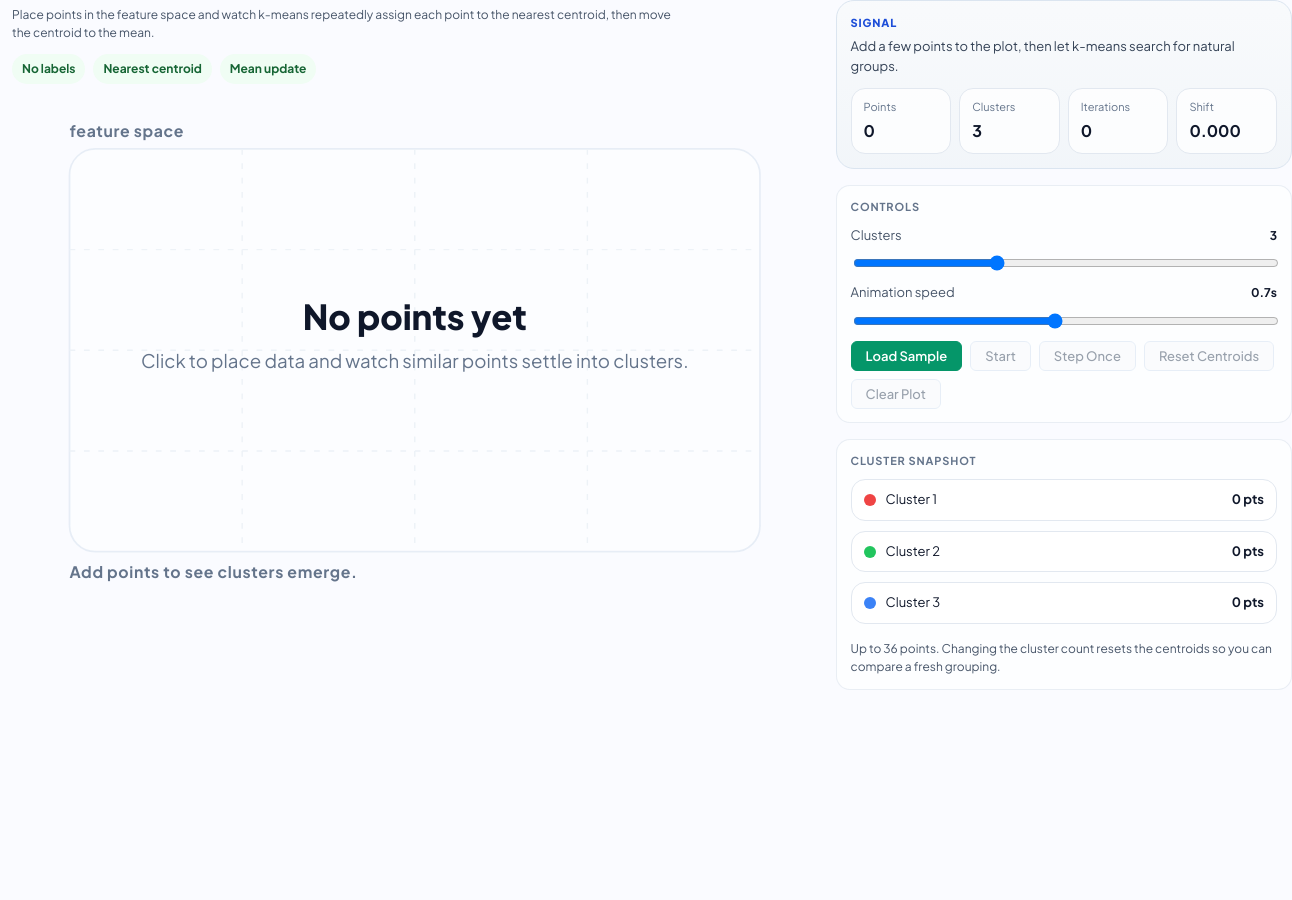
Test: ClusteringLab › increments the Iterations stat after Step Once
Click the button "Load Sample" at (906,356), box left=850, top=341, right=962, bottom=371
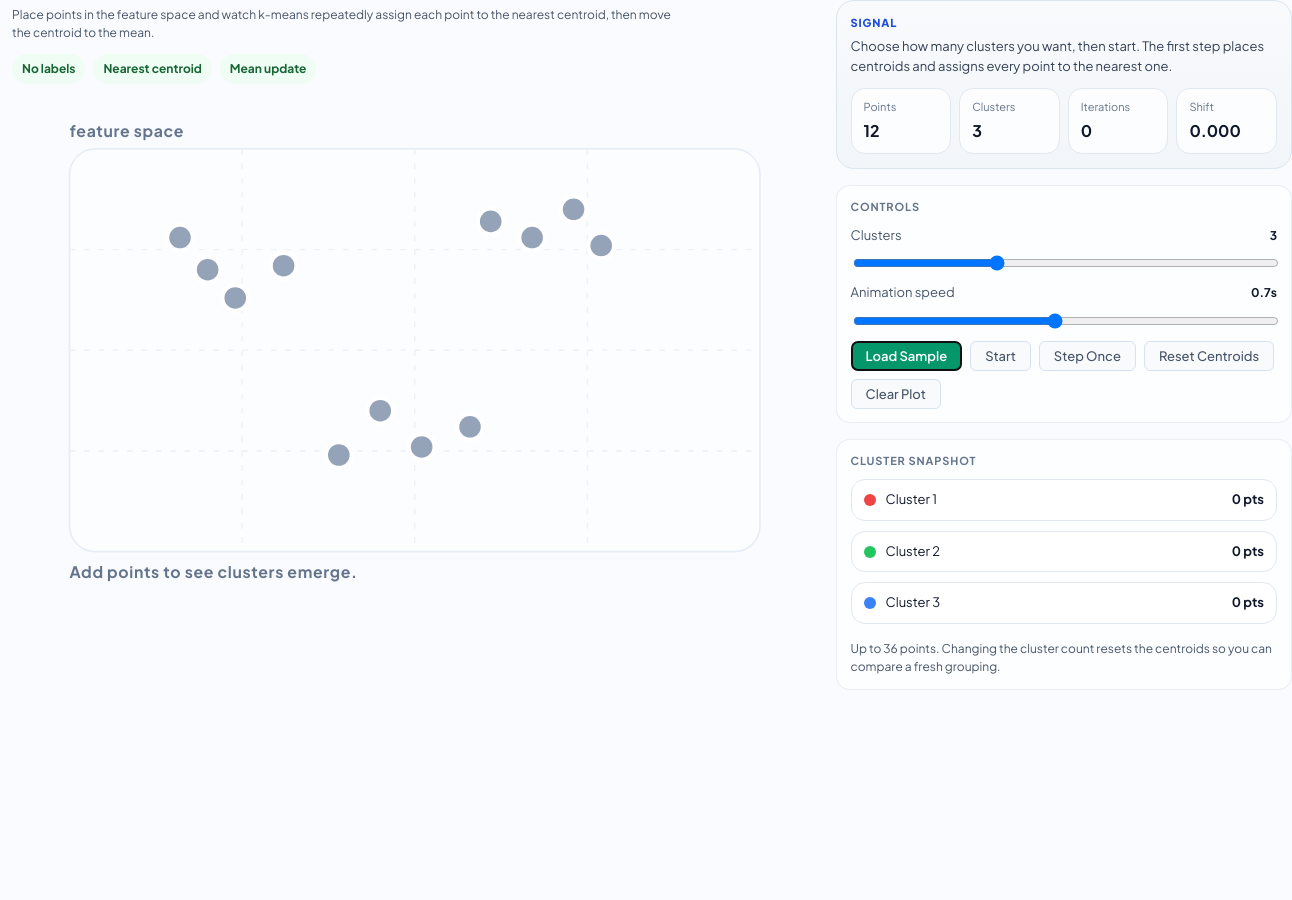
Expected: the text "0" is shown, left=1081, top=120, right=1092, bottom=141
Click the button "Step Once" at (1087,356), box left=1039, top=341, right=1136, bottom=371
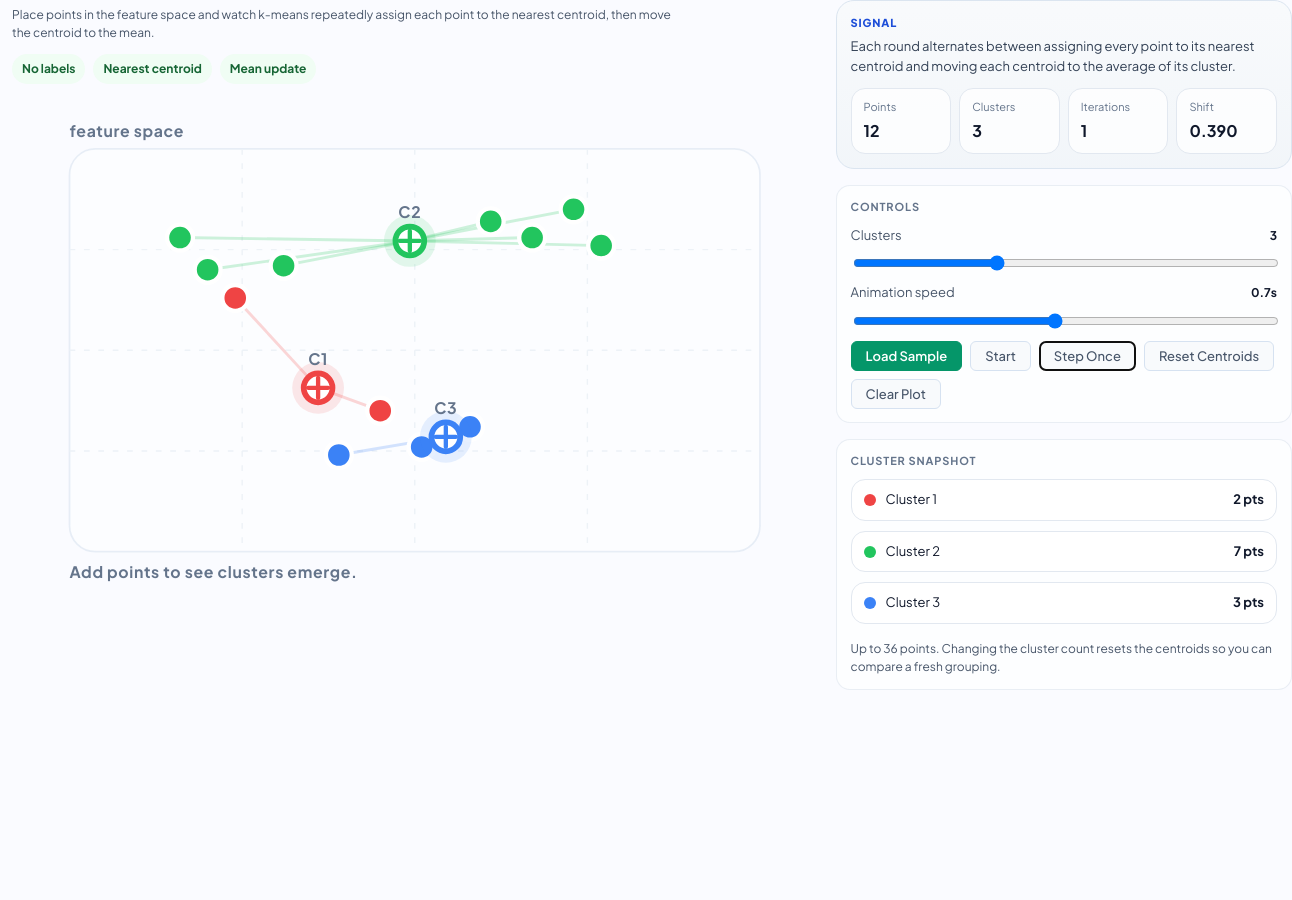
Now the text "1" is shown, box left=1081, top=120, right=1087, bottom=141
